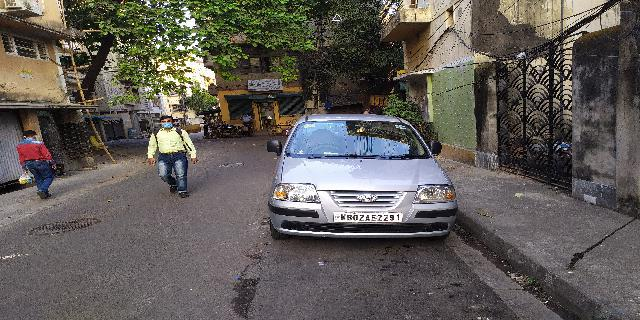Car: (263, 110, 460, 247)
